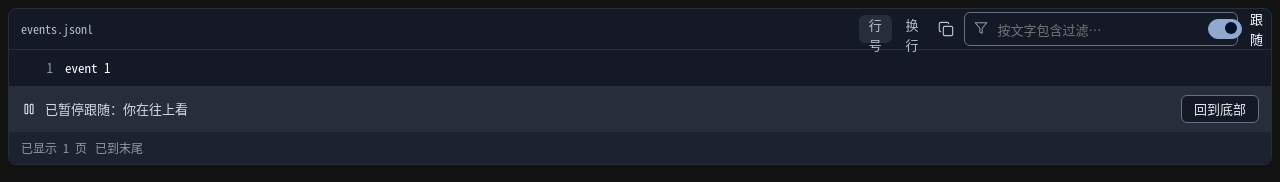
it: LogFollow 结构 › 四种状态的文字与 data-follow
(page scrolled)
Click the switch labelled "跟随". click: (1236, 29)
box: [1208, 9, 1263, 49]
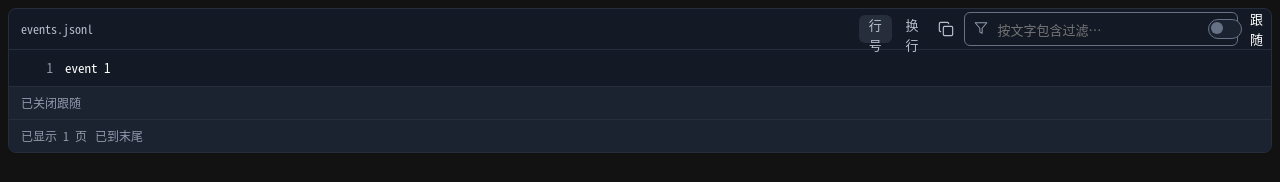
Now the text "已关闭跟随" is shown, box [21, 95, 81, 111]
